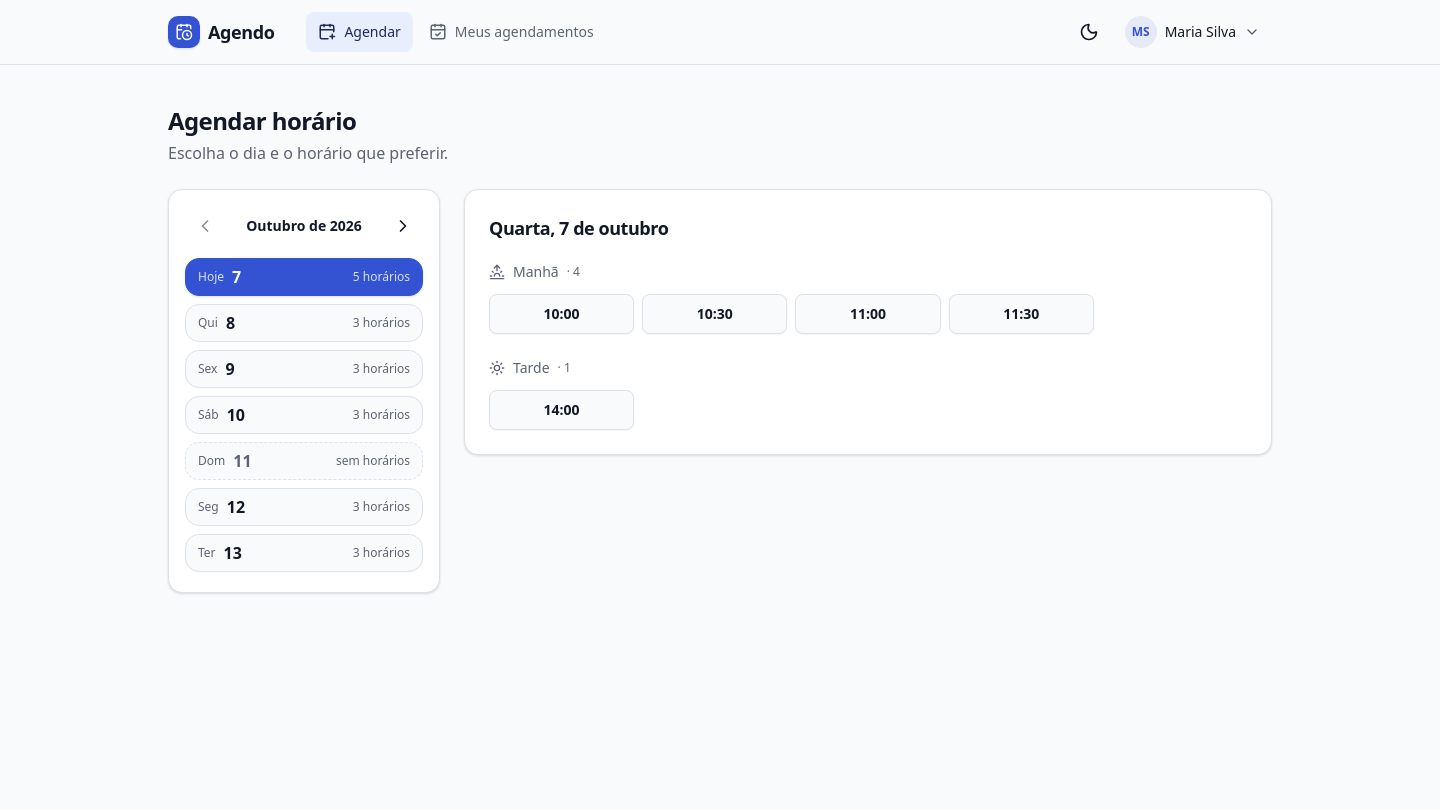
Test case: BookPage › books several consecutive slots with the duration slider
Step 1. Click the button "10:00" → (562, 314), box [489, 294, 634, 334]
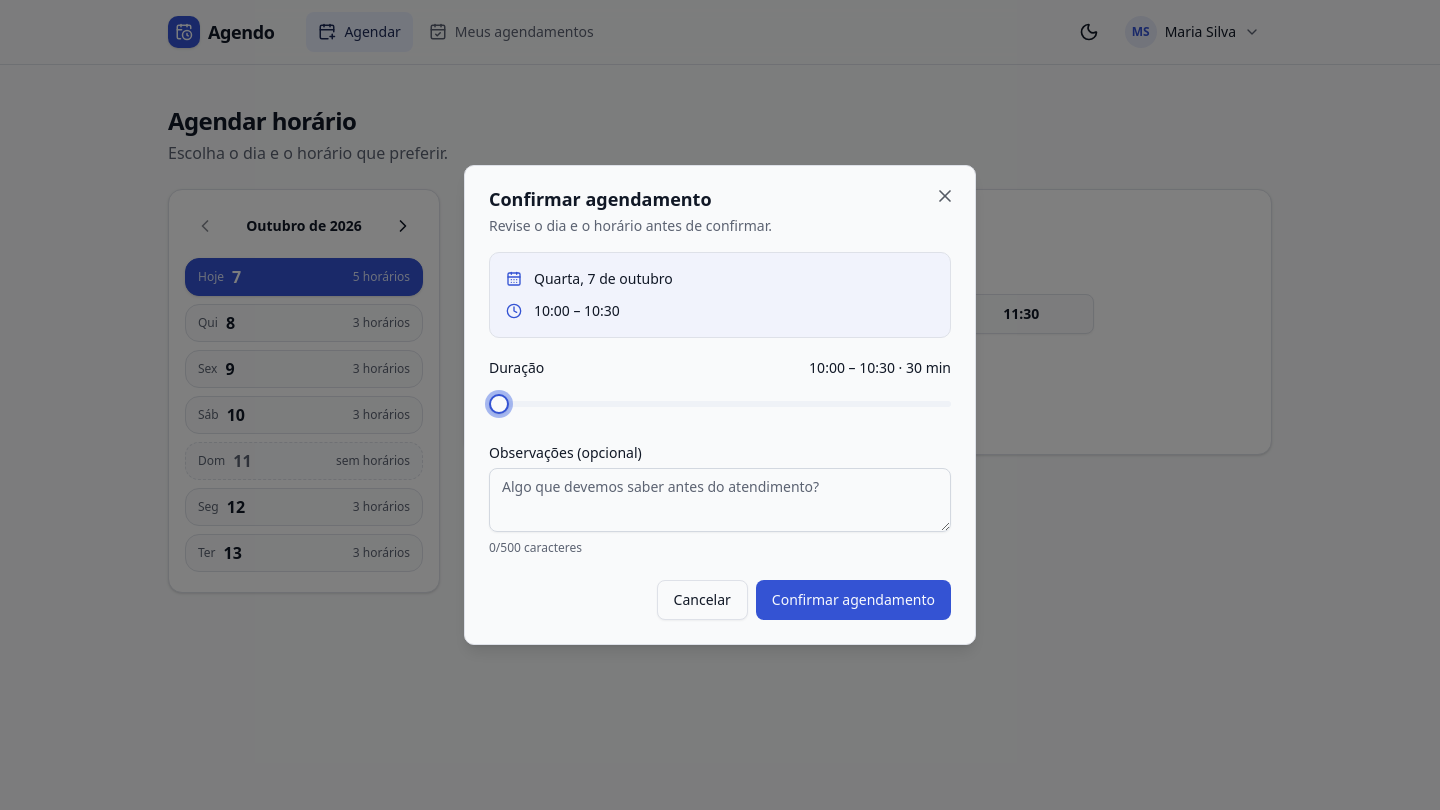
Step 2. Press Arrowright Arrowright
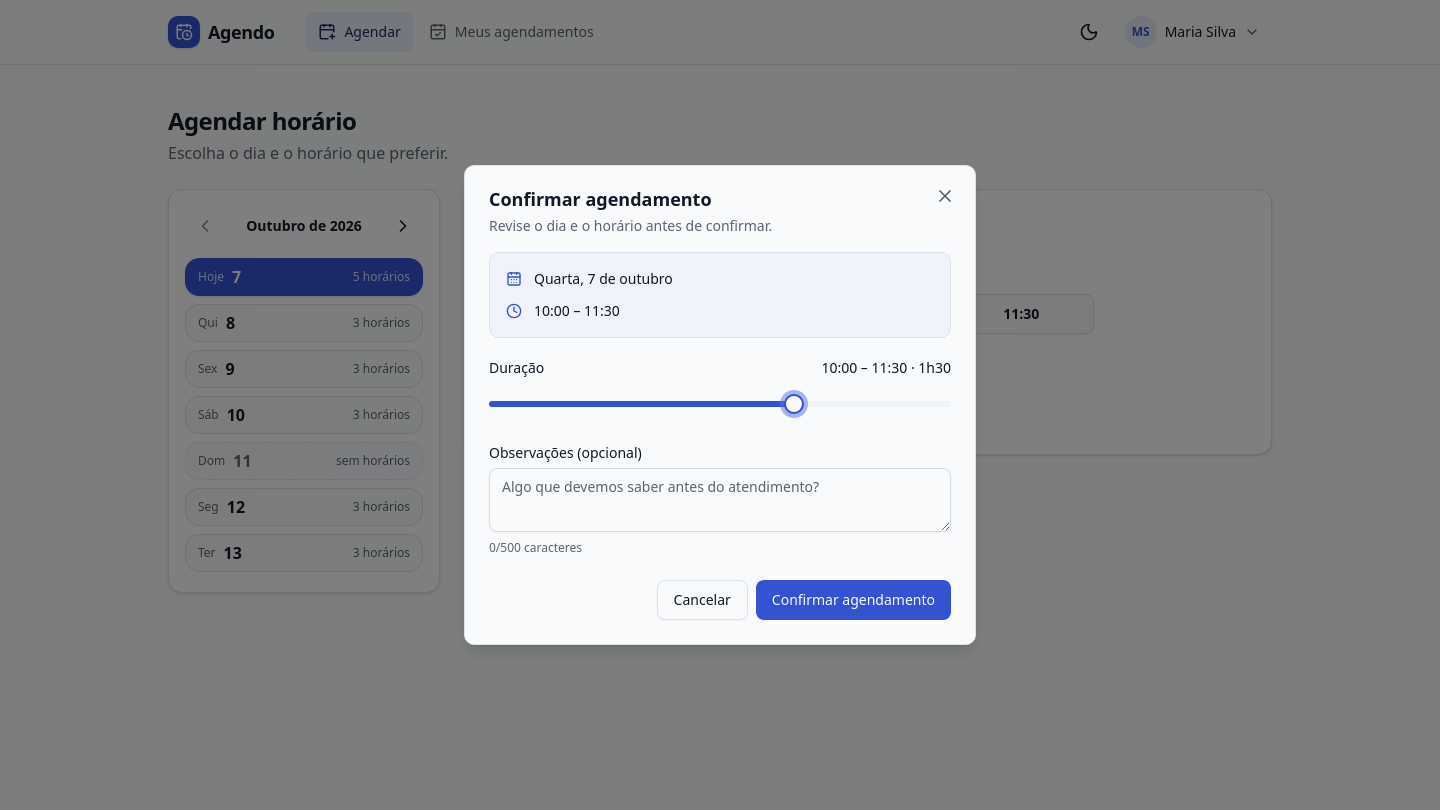
Expected: the text "10:00 – 11:30 · 1h30" is shown, [821, 358, 951, 378]
Step 3. Click the button "Confirmar agendamento" → (853, 600), box [756, 580, 951, 620]
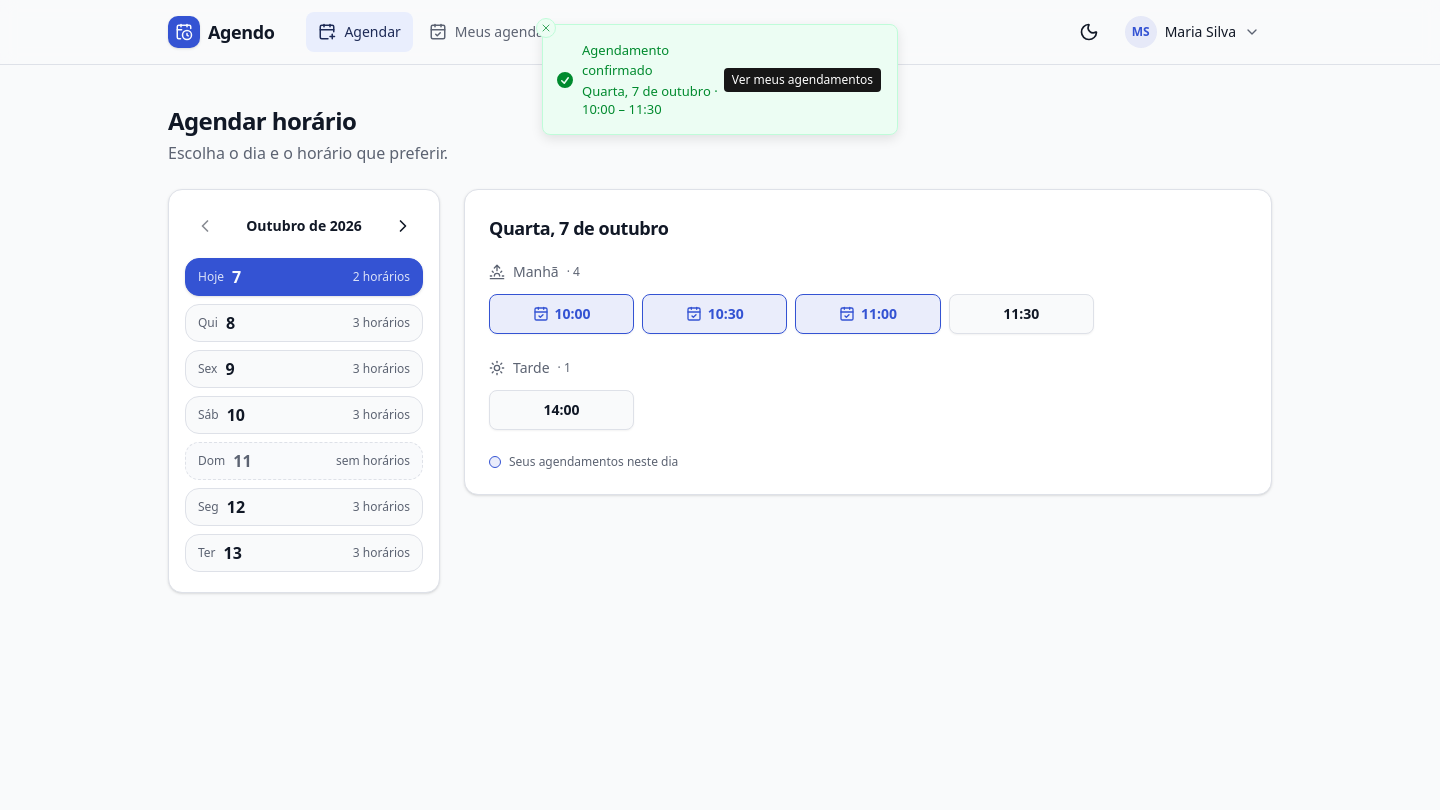
Expected: the text "Agendamento confirmado" is shown, [582, 41, 669, 78]
Expected: the number of buttons named "seu agendamento" is 3, [489, 294, 634, 334]; [642, 294, 787, 334]; [795, 294, 941, 334]
